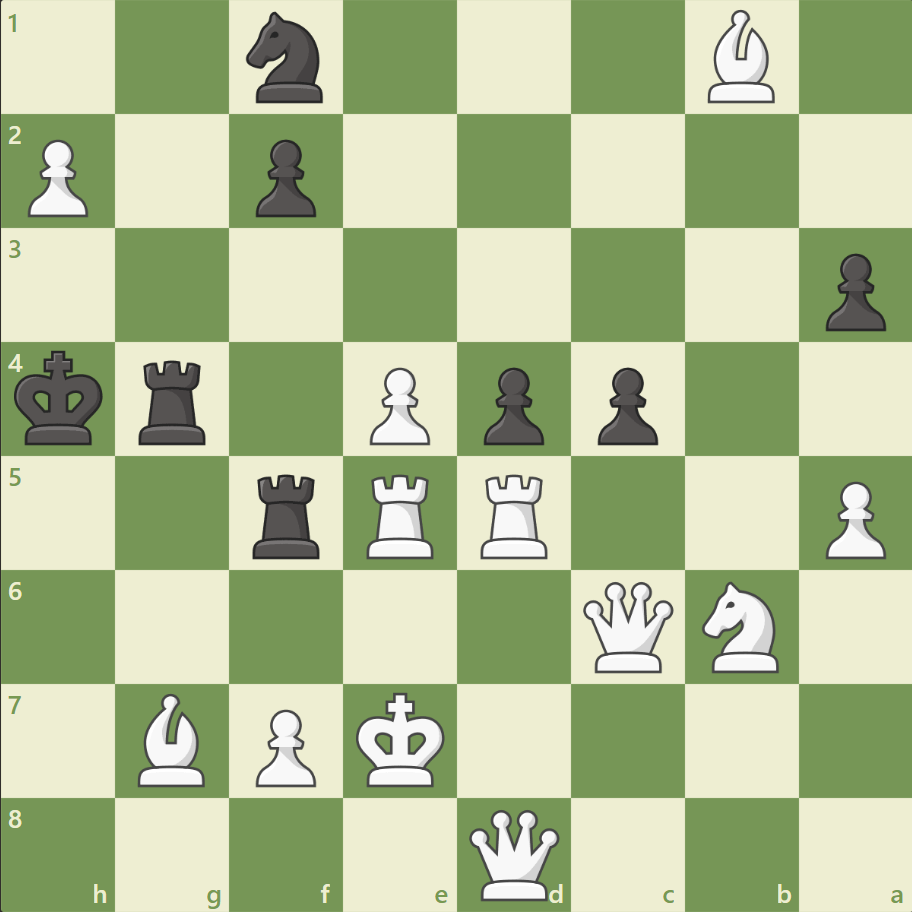B: (131, 687, 215, 790), (698, 6, 782, 109)
K: (351, 685, 451, 793)
N: (692, 575, 789, 677)
P: (247, 700, 322, 791), (20, 132, 95, 223), (815, 473, 889, 564), (361, 359, 435, 450)
Q: (578, 576, 677, 676), (464, 804, 563, 903)
R: (473, 466, 556, 563), (360, 466, 442, 563)
k: (11, 344, 111, 452)
n: (238, 7, 335, 110)
p: (474, 359, 549, 450), (247, 132, 322, 223), (588, 359, 662, 450), (815, 246, 889, 337)
r: (246, 466, 329, 563), (133, 352, 215, 449)
